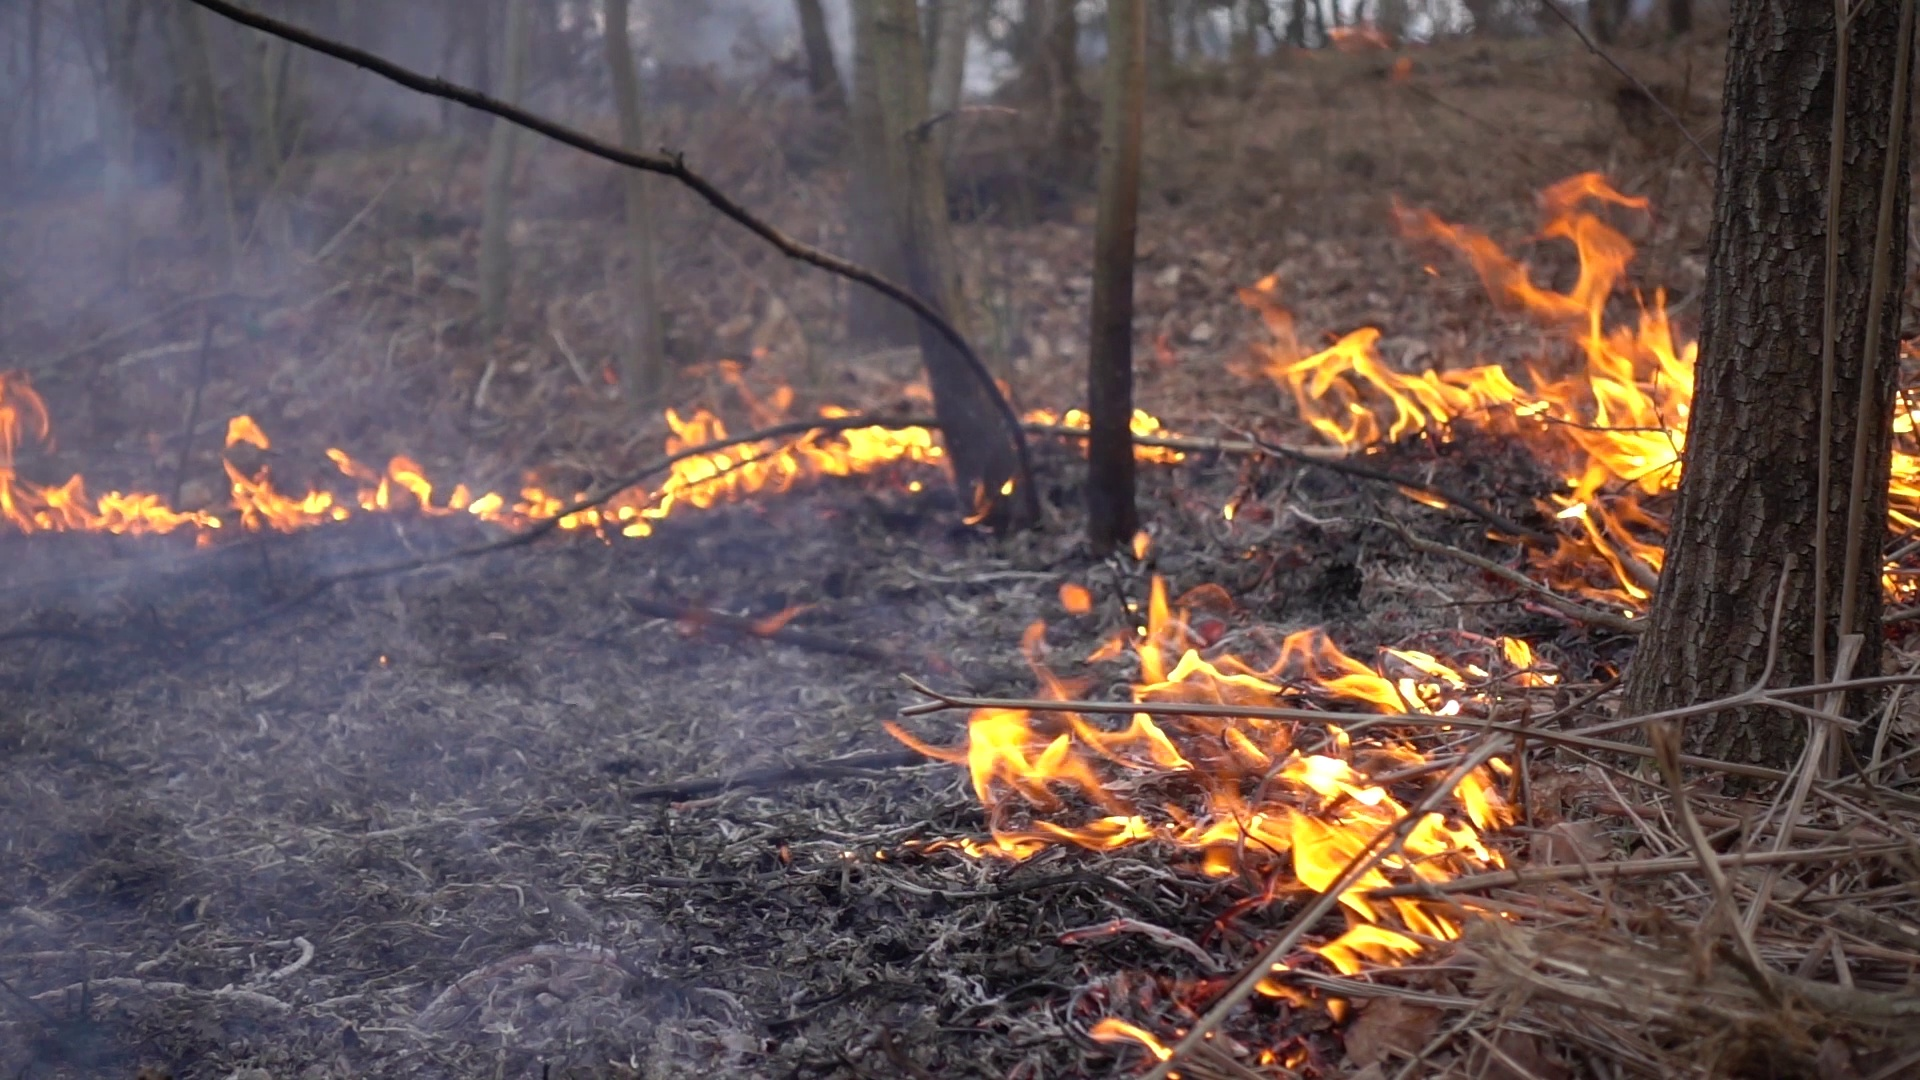fire: (963, 618, 1515, 982), (1280, 181, 1693, 604), (654, 402, 940, 514), (377, 458, 647, 546), (3, 465, 222, 550), (227, 462, 340, 535), (1892, 396, 1917, 535), (1131, 410, 1172, 465), (222, 407, 264, 446)
